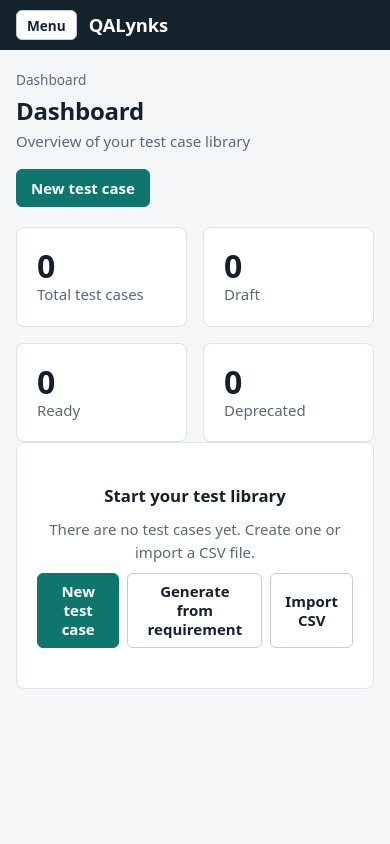
Scenario: application shell › toggles the mobile menu and closes it with Escape
Click the button "Menu" at [46, 25], box [16,10,77,40]
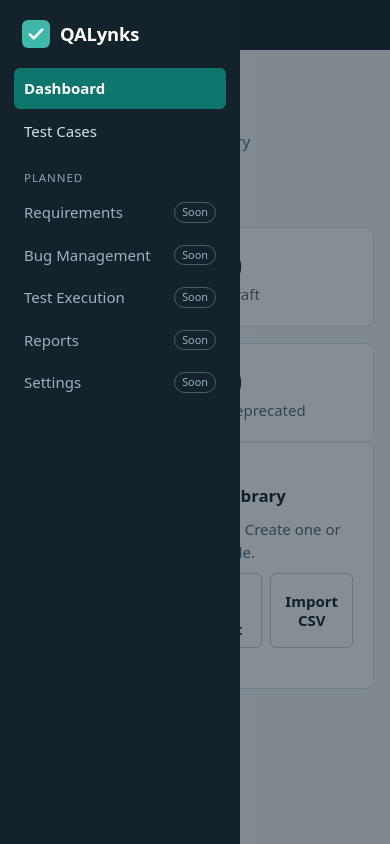
Expected: the button "Menu" is expanded, [16,10,77,40]
Press Escape
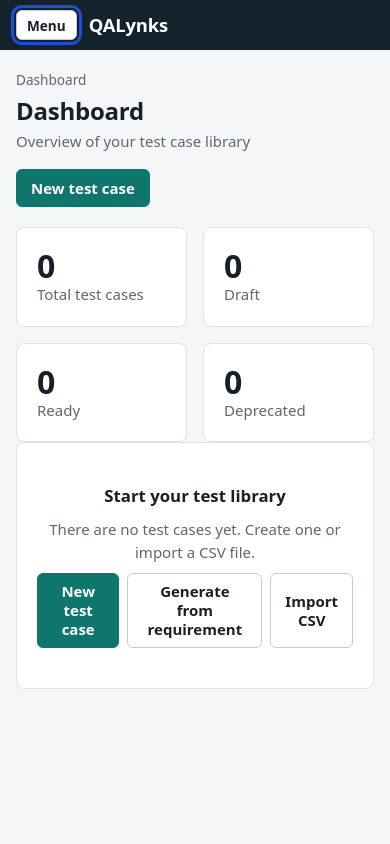
Expected: the button "Menu" is collapsed, [16,10,77,40]
